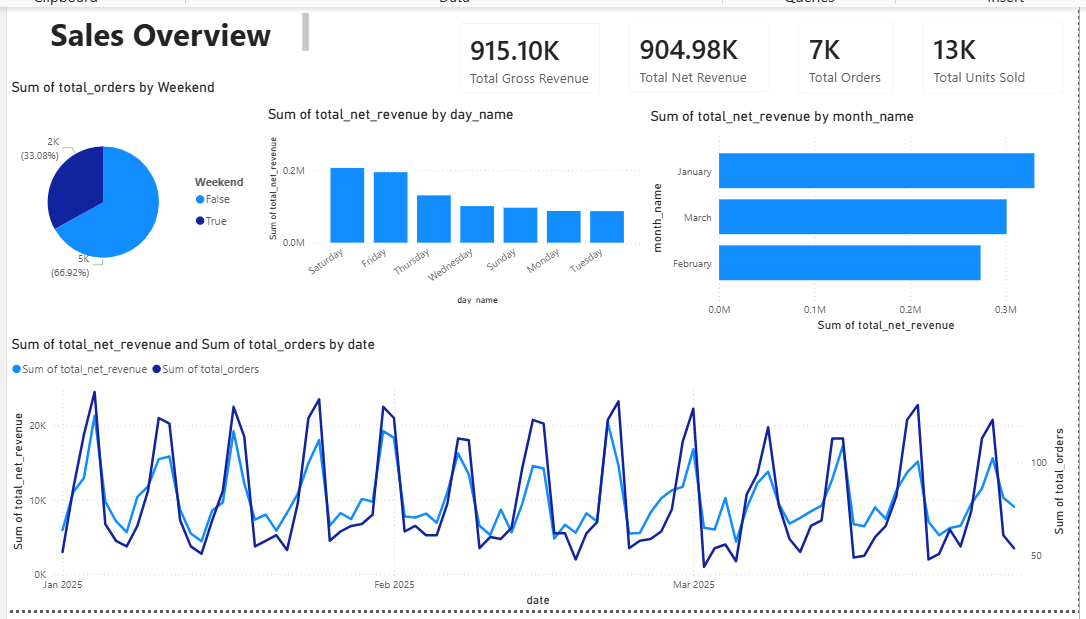

This screenshot's page, from the dashboard's own definition file:
{"tool":"powerbi","page":{"name":"Sales Overview","canvas":[1280,720],"ordinal":0},"visuals":[{"type":"lineChart","fields":{"Y":["Sum(`dbt_tuto_prod` `gold` `gold_sales_by_day`.total_net_revenue)"],"Category":["`dbt_tuto_prod` `gold` `gold_sales_by_day`.date"],"Y2":["Sum(`dbt_tuto_prod` `gold` `gold_sales_by_day`.total_orders)"]},"box":[0,392.4,1268.7,327.9],"z":0},{"type":"pieChart","fields":{"Category":["`dbt_tuto_prod` `gold` `gold_sales_by_day`.is_weekend"],"Y":["Sum(`dbt_tuto_prod` `gold` `gold_sales_by_day`.total_orders)"]},"box":[0,86,306.4,274.2],"z":1000},{"type":"clusteredBarChart","fields":{"Y":["Sum(`dbt_tuto_prod` `gold` `gold_sales_by_day`.total_net_revenue)"],"Category":["`dbt_tuto_prod` `gold` `gold_sales_by_day`.month_name"]},"box":[763.3,120.1,505.3,272.4],"z":2000},{"type":"cardVisual","fields":{"Data":["Sum(`dbt_tuto_prod` `gold` `gold_sales_by_day`.total_net_revenue)"]},"box":[725.7,0,202.5,118.3],"z":3000},{"type":"cardVisual","fields":{"Data":["Sum(`dbt_tuto_prod` `gold` `gold_sales_by_day`.total_units_sold)"]},"box":[1076.9,0,202.5,120.1],"z":4000},{"type":"cardVisual","fields":{"Data":["Sum(`dbt_tuto_prod` `gold` `gold_sales_by_day`.total_orders)"]},"box":[928.2,0,148.7,120.1],"z":5000},{"type":"textbox","box":[10.8,1.8,354.8,57.3],"z":6000},{"type":"cardVisual","fields":{"Data":["Sum(`dbt_tuto_prod` `gold` `gold_sales_by_day`.total_gross_revenue)"]},"box":[523.2,1.8,202.5,118.3],"z":7000},{"type":"clusteredColumnChart","fields":{"Y":["Sum(`dbt_tuto_prod` `gold` `gold_sales_by_day`.total_net_revenue)"],"Category":["`dbt_tuto_prod` `gold` `gold_sales_by_day`.day_name"]},"box":[306.4,118.3,456.9,241.9],"z":8000}]}

Visuals, with their boxes on the page's 1280x720 design canvas (x1, y1, x2, y2). These are canvas units, not pixel positions in the 1086x619 screenshot, which may show the page scaled, cropped or inside an application window:
lineChart - Sum(`dbt_tuto_prod` `gold` `gold_sales_by_day`.total_net_revenue) x `dbt_tuto_prod` `gold` `gold_sales_by_day`.date: pyautogui.locateOnScreen(0, 392, 1269, 720)
pieChart - `dbt_tuto_prod` `gold` `gold_sales_by_day`.is_weekend x Sum(`dbt_tuto_prod` `gold` `gold_sales_by_day`.total_orders): pyautogui.locateOnScreen(0, 86, 306, 360)
clusteredBarChart - Sum(`dbt_tuto_prod` `gold` `gold_sales_by_day`.total_net_revenue) x `dbt_tuto_prod` `gold` `gold_sales_by_day`.month_name: pyautogui.locateOnScreen(763, 120, 1269, 392)
cardVisual - Sum(`dbt_tuto_prod` `gold` `gold_sales_by_day`.total_net_revenue): pyautogui.locateOnScreen(726, 0, 928, 118)
cardVisual - Sum(`dbt_tuto_prod` `gold` `gold_sales_by_day`.total_units_sold): pyautogui.locateOnScreen(1077, 0, 1279, 120)
cardVisual - Sum(`dbt_tuto_prod` `gold` `gold_sales_by_day`.total_orders): pyautogui.locateOnScreen(928, 0, 1077, 120)
textbox: pyautogui.locateOnScreen(11, 2, 366, 59)
cardVisual - Sum(`dbt_tuto_prod` `gold` `gold_sales_by_day`.total_gross_revenue): pyautogui.locateOnScreen(523, 2, 726, 120)
clusteredColumnChart - Sum(`dbt_tuto_prod` `gold` `gold_sales_by_day`.total_net_revenue) x `dbt_tuto_prod` `gold` `gold_sales_by_day`.day_name: pyautogui.locateOnScreen(306, 118, 763, 360)
